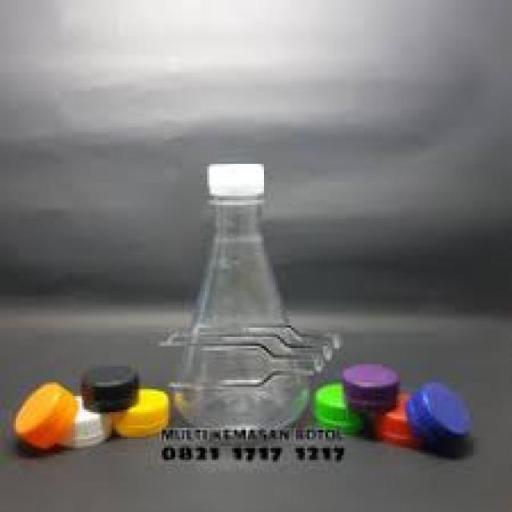plastic: (177, 143, 321, 459)
